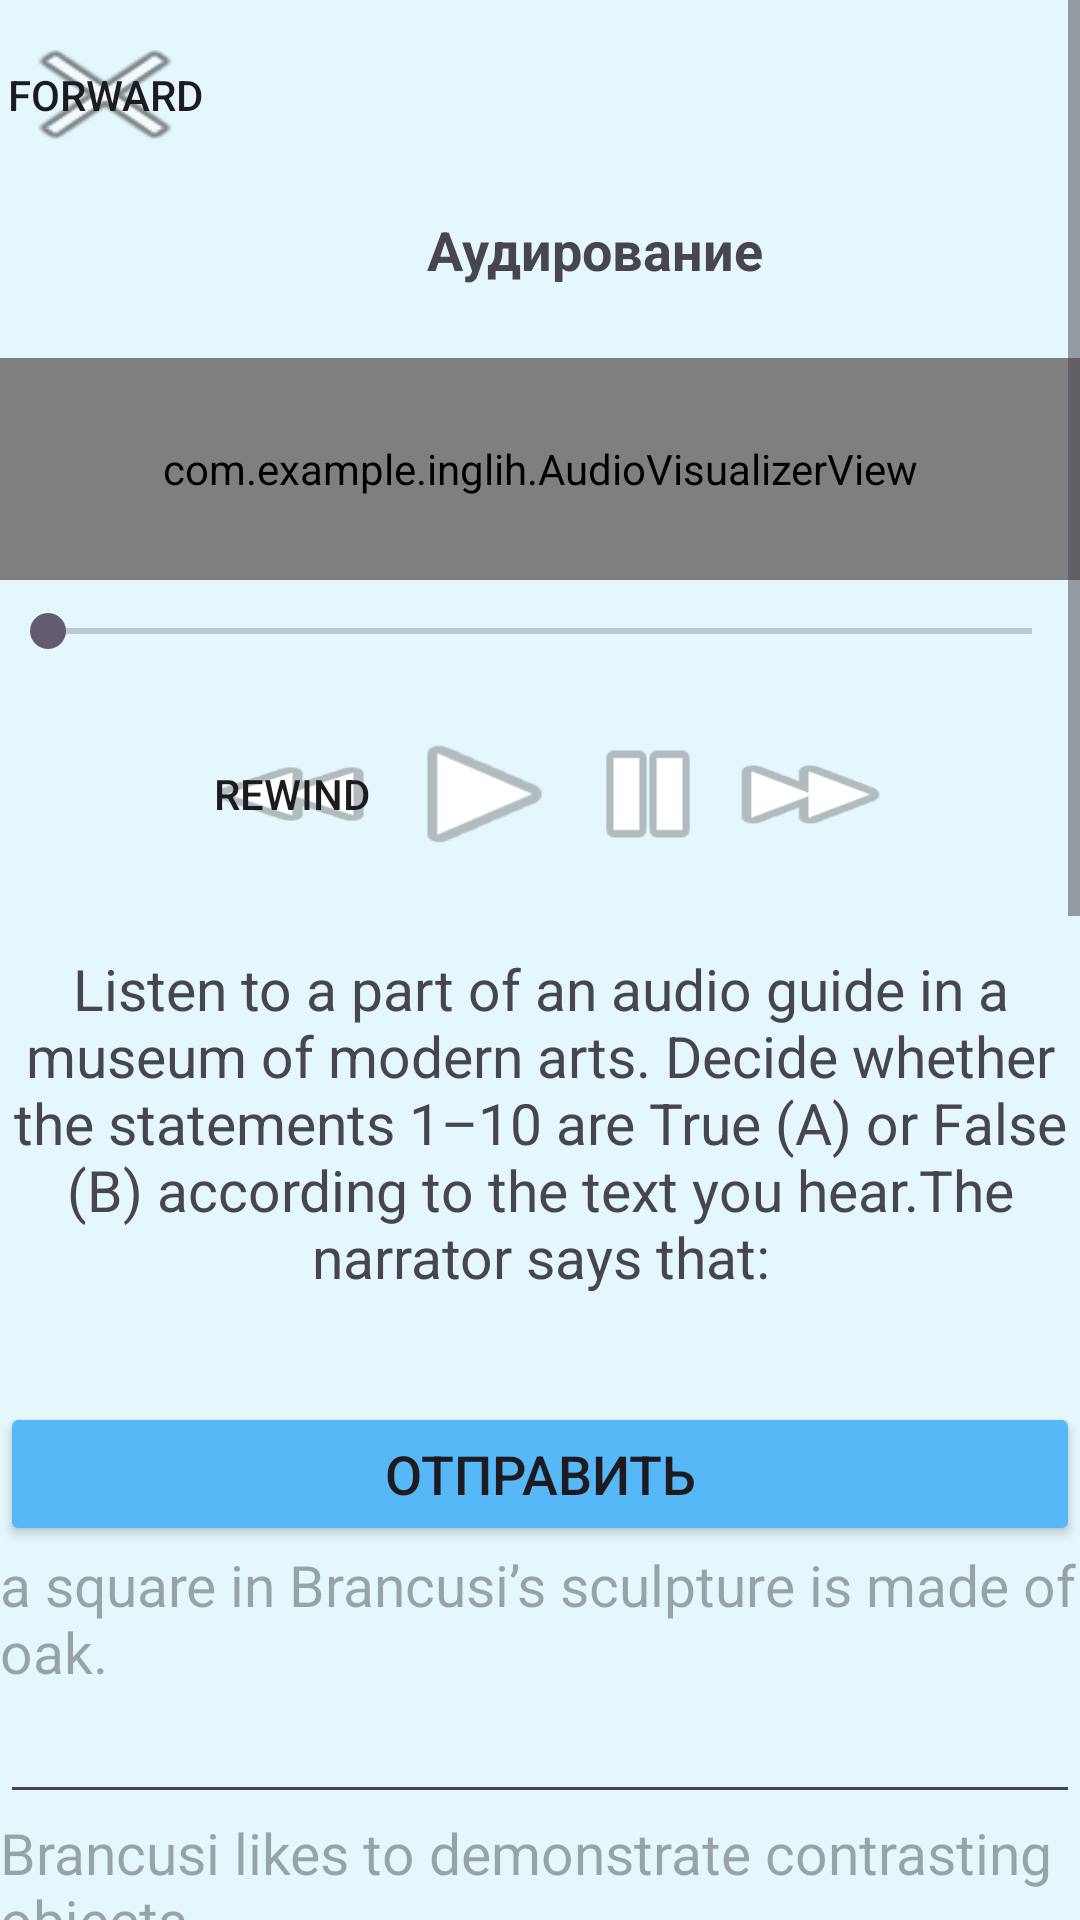

Where icons sit on this 1080 x 1920 app screen, as (x1, y1, x2, y2):
pause: (606, 750, 690, 838)
play: (427, 746, 542, 842)
